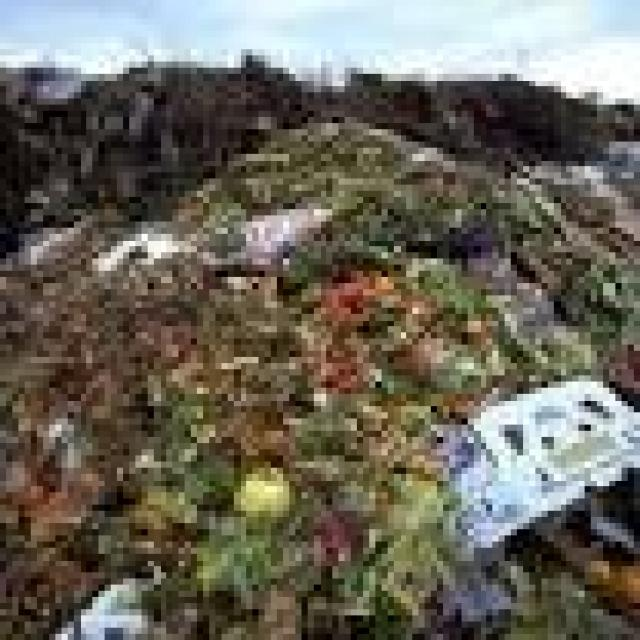food_waste: (75, 161, 604, 598)
